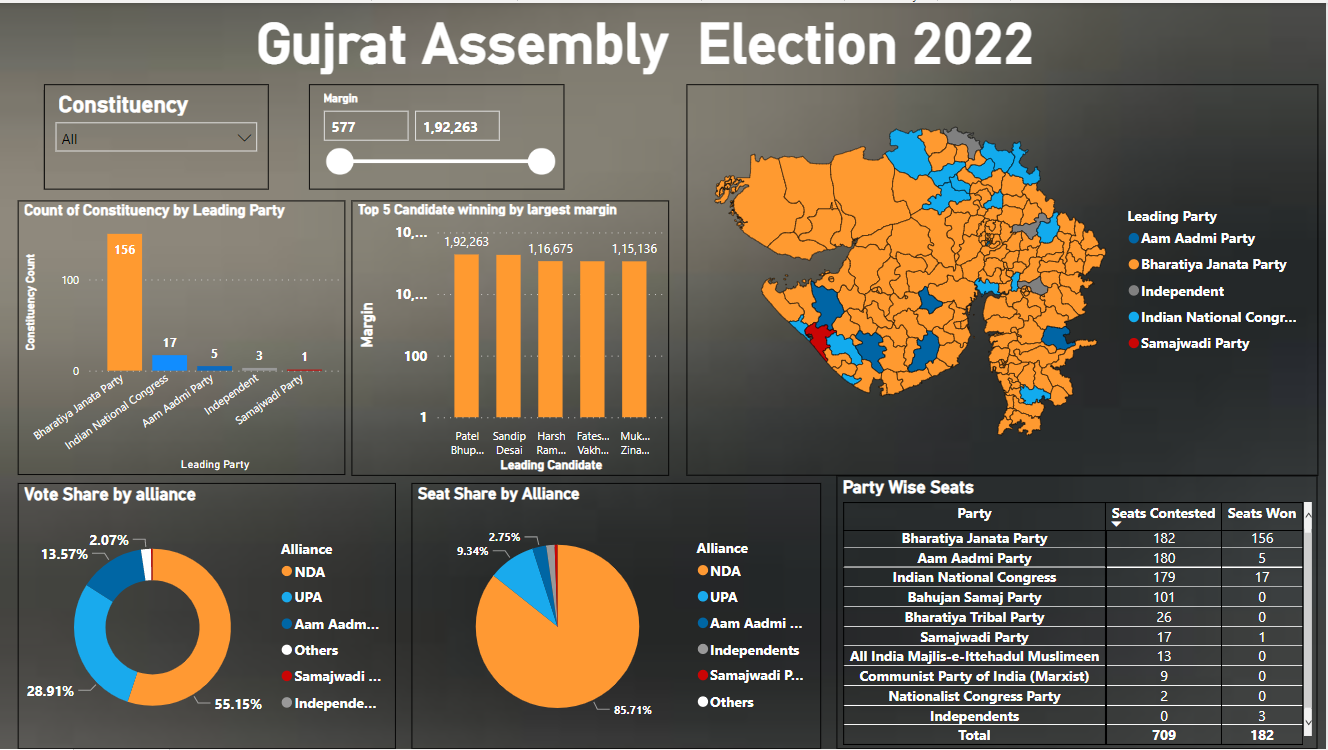

What the dashboard file says about the page in this screenshot:
{"tool":"powerbi","page":{"name":"Gujrat Election Result 2022","canvas":[1280,720],"ordinal":0},"visuals":[{"type":"shapeMap","fields":{"Category":["Election Result 2022.Constituency"],"Value":["Election Result 2022.Margin"],"Series":["Election Result 2022.Leading Party"]},"box":[663.3,77.9,609.3,377.3],"z":0},{"type":"clusteredColumnChart","fields":{"Category":["Election Result 2022.Leading Party"],"Y":["Election Result 2022.Constituency"]},"box":[17.7,190.4,316.2,264.8],"z":1000},{"type":"slicer","fields":{"Values":["Election Result 2022.Constituency"]},"box":[43.4,77.9,217,101.8],"z":2000},{"type":"card","title":"Gujrat Assembly  Election 2022","fields":{"Values":["Election Result 2022.Const. No."]},"box":[200.1,7.1,846.6,64.6],"z":3000},{"type":"slicer","fields":{"Values":["Election Result 2022.Margin"]},"box":[299.3,77.9,246.2,101.8],"z":4000},{"type":"clusteredColumnChart","title":"Top 5 Candidate winning by largest margin","fields":{"Category":["Gujrat Election Result 2022.Leading Candidate"],"Y":["Gujrat Election Result 2022.Margin"]},"box":[340.1,190.4,306.4,265.7],"z":5000},{"type":"pivotTable","title":"Party Wise Seats","fields":{"Rows":["Results by alliance and party.Party"],"Values":["Results by alliance and party.Seats Contested","Results by alliance and party.Seats Won"]},"box":[808.6,456.1,464.1,263.9],"z":5001},{"type":"donutChart","title":"Vote Share by alliance","fields":{"Category":["Results by alliance and party.Alliance"],"Y":["Results by alliance and party.Popular vote %"]},"box":[17.7,463.2,364.9,256.8],"z":5002},{"type":"pieChart","title":"Seat Share by Alliance","fields":{"Category":["Results by alliance and party.Alliance"],"Y":["Results by alliance and party.Seats Won"]},"box":[398.5,463.2,395,256.8],"z":5003}]}

Visuals, with their boxes in screenshot pixels (x1, y1, x2, y2), scaled from the page's 1280x720 canvas onto the 1328x750 screenshot:
shapeMap - Election Result 2022.Constituency x Election Result 2022.Margin: [688,81,1320,474]
clusteredColumnChart - Election Result 2022.Leading Party x Election Result 2022.Constituency: [18,198,346,474]
slicer - Election Result 2022.Constituency: [45,81,270,187]
"Gujrat Assembly  Election 2022" card: [208,7,1086,75]
slicer - Election Result 2022.Margin: [311,81,566,187]
"Top 5 Candidate winning by largest margin" clusteredColumnChart: [353,198,671,475]
"Party Wise Seats" pivotTable: [839,475,1320,749]
"Vote Share by alliance" donutChart: [18,482,397,749]
"Seat Share by Alliance" pieChart: [413,482,823,749]
